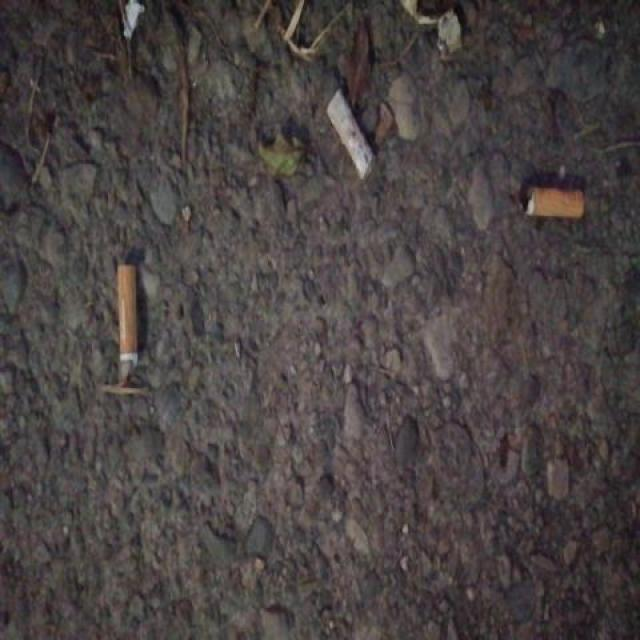non-organic waste: (319, 81, 382, 191), (113, 258, 143, 386), (514, 177, 590, 223)
